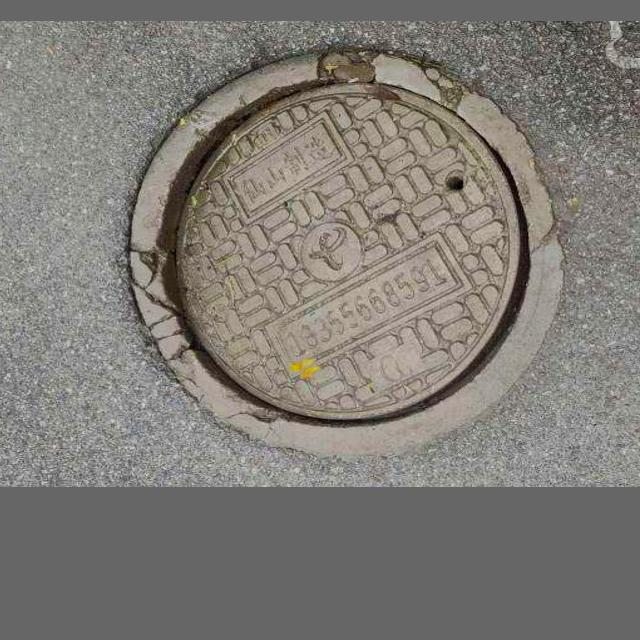circle: (68, 47, 591, 453)
